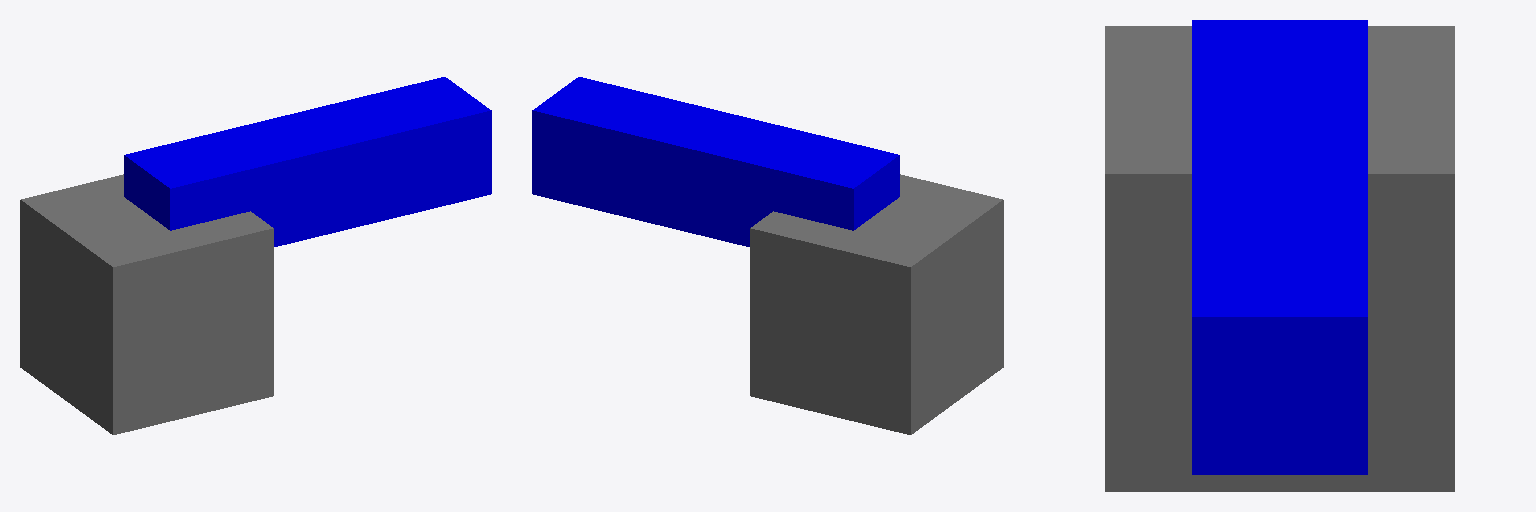
URDF robot description (simple_revolute_robot_with_inertia):
<?xml version="1.0"?>
<robot name="simple_revolute_robot_with_inertia">

  <!-- Base Link -->
  <link name="base_link">
    <visual>
      <geometry>
        <box size="0.1 0.1 0.1"/>
      </geometry>
      <origin xyz="0 0 0" rpy="0 0 0"/>
      <material name="gray">
        <color rgba="0.5 0.5 0.5 1"/>
      </material>
    </visual>
    <inertial>
      <mass value="1.0"/>
      <origin xyz="0 0 0" rpy="0 0 0"/>
      <inertia ixx="0.01" ixy="0.0" ixz="0.0" iyy="0.01" iyz="0.0" izz="0.01"/>
    </inertial>
  </link>

  <!-- Arm Link -->
  <link name="arm_link">
    <visual>
      <geometry>
        <box size="0.2 0.05 0.05"/>
      </geometry>
      <origin xyz="0.1 0 0" rpy="0 0 0"/>
      <material name="blue">
        <color rgba="0 0 1 1"/>
      </material>
    </visual>
    <inertial>
      <mass value="0.5"/>
      <origin xyz="0.1 0 0" rpy="0 0 0"/>
      <inertia ixx="0.001" ixy="0.0" ixz="0.0" iyy="0.001" iyz="0.0" izz="0.001"/>
    </inertial>
  </link>

  <!-- Revolute Joint (rotates around Z-axis) -->
  <joint name="revolute_joint" type="revolute">
    <parent link="base_link"/>
    <child link="arm_link"/>
    <origin xyz="0 0 0.05" rpy="0 0 0"/>
    <axis xyz="0 0 1"/>
    <limit lower="-3.14159" upper="3.14159" effort="1000" velocity="100.0"/>
  </joint>

</robot>

--- Facts derived from the render (not from the file) ---
Views: 3 orthographic renders of the robot side by side, from view 1: azimuth 30°, elevation 25°; view 2: azimuth 150°, elevation 25°; view 3: azimuth 270°, elevation 25°.
Robot: simple_revolute_robot_with_inertia — 2 links, 1 joints (1 revolute); root link base_link; default pose: every joint at zero.
Links seen in each view (by area): view 1: base_link, arm_link; view 2: base_link, arm_link; view 3: base_link, arm_link.
Boxes of the visible links, x1,y1,x2,y2 form: base_link: [20, 174, 273, 434]; arm_link: [124, 77, 491, 246]; base_link: [750, 174, 1003, 434]; arm_link: [532, 77, 899, 246]; base_link: [1105, 26, 1454, 491]; arm_link: [1192, 20, 1367, 474].
Bounding box of the posed robot: 0.25 × 0.1 × 0.125 m (x, y, z).
Geometry: primitives only (box / cylinder / sphere), no mesh files.
